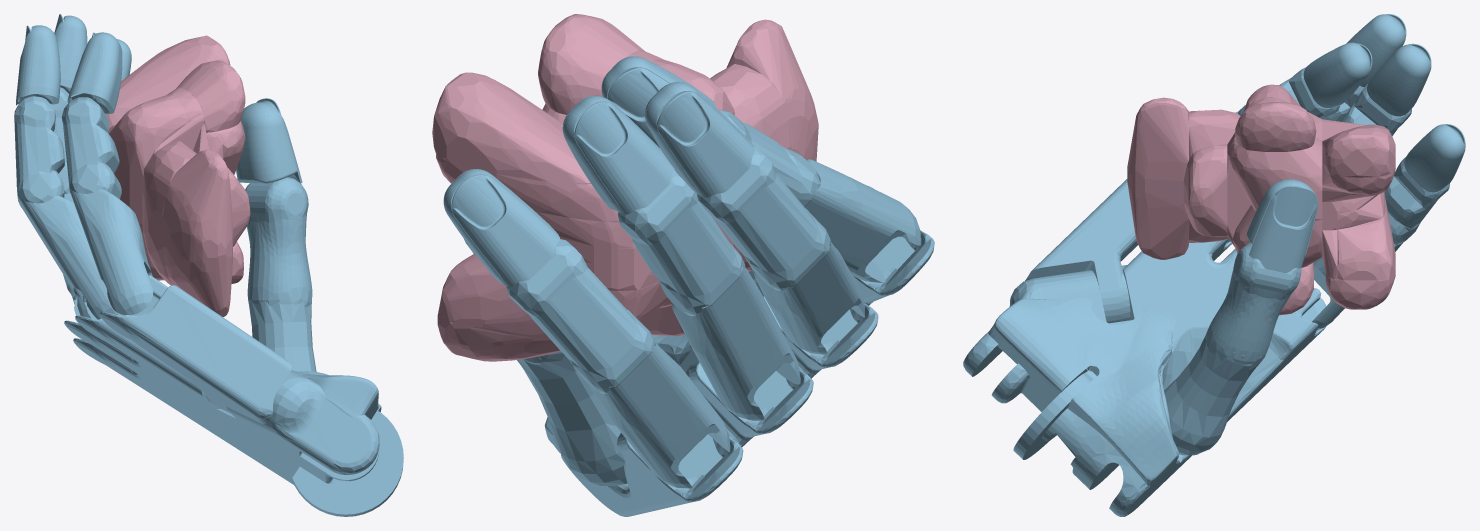
The picture shows the model from 3 angles, left to right: view 1: azimuth 30°, elevation 25°; view 2: azimuth 150°, elevation 25°; view 3: azimuth 270°, elevation 25°; orthographic projection. The views are drawn at different scales.
Parts seen in each view (by area): view 1: hand_isaac_q, world; view 2: hand_isaac_q, world; view 3: hand_isaac_q, world.
Boxes of the visible parts, <box> form: hand_isaac_q: <box>14,14,403,516</box>; world: <box>105,35,250,316</box>; hand_isaac_q: <box>443,56,934,516</box>; world: <box>432,14,818,361</box>; hand_isaac_q: <box>963,14,1465,516</box>; world: <box>1127,84,1395,315</box>.
Bounding box in the file's own units: 0.1045 × 0.1597 × 0.1747.
